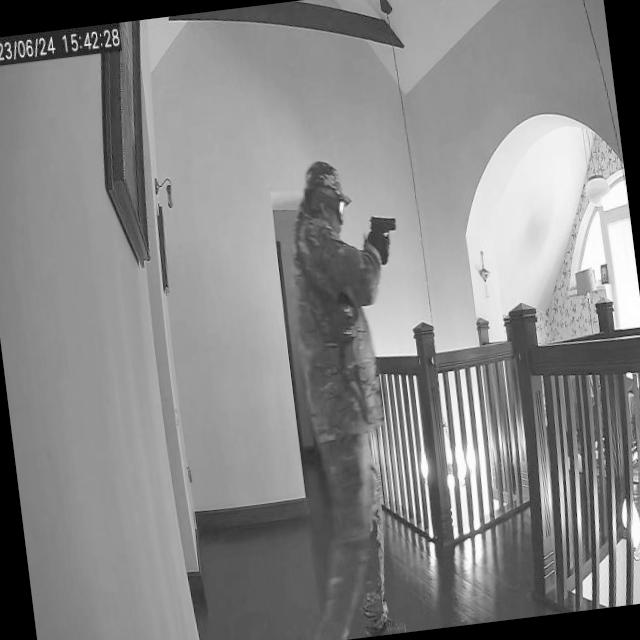gun: (367, 208, 400, 252)
person with a gun: (274, 150, 450, 639)
